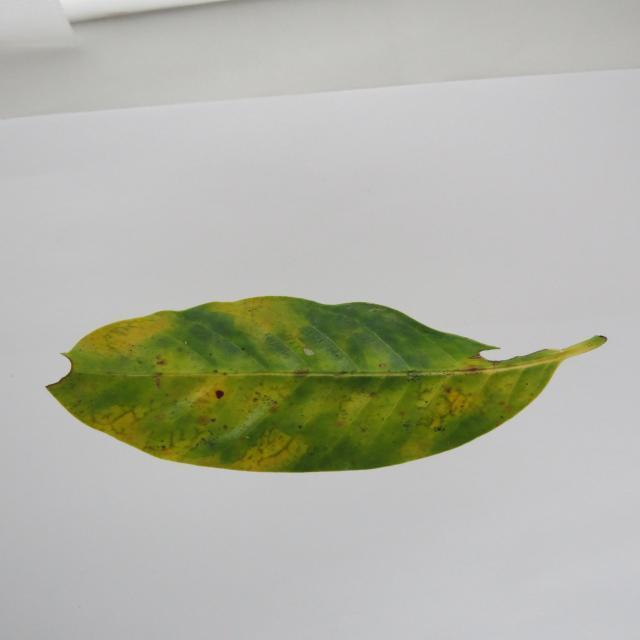DeficienciaNutricional-Nitrogeno: (48, 296, 607, 472)
